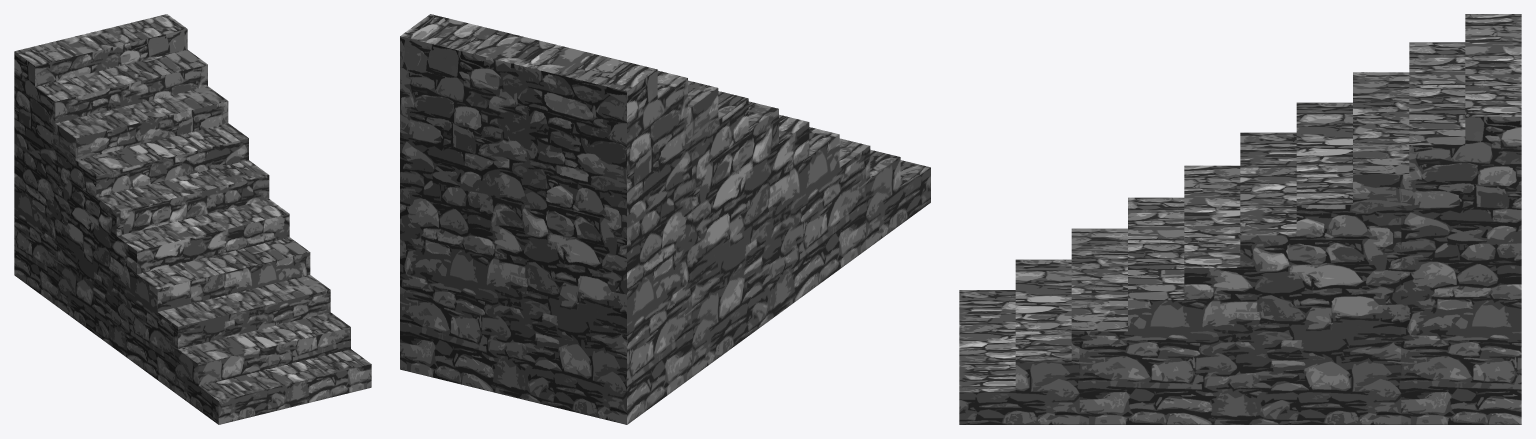
Rendered from stone_stairs.fbx.
3 views of the same model, side by side, from view 1: azimuth 30°, elevation 25°; view 2: azimuth 150°, elevation 25°; view 3: azimuth 270°, elevation 25° (orthographic). The views are drawn at different scales.
Visible parts, largest first — view 1: pCube4; view 2: pCube4; view 3: pCube4.
Part boxes in pixels (box(x1,y1,x2,y2)): pCube4: box(14, 14, 371, 424); pCube4: box(400, 14, 930, 424); pCube4: box(959, 14, 1521, 424).
Size of the model in its own units: 21.55 by 30.23 by 49.93.
Materials: 1 (1 with a texture image).
